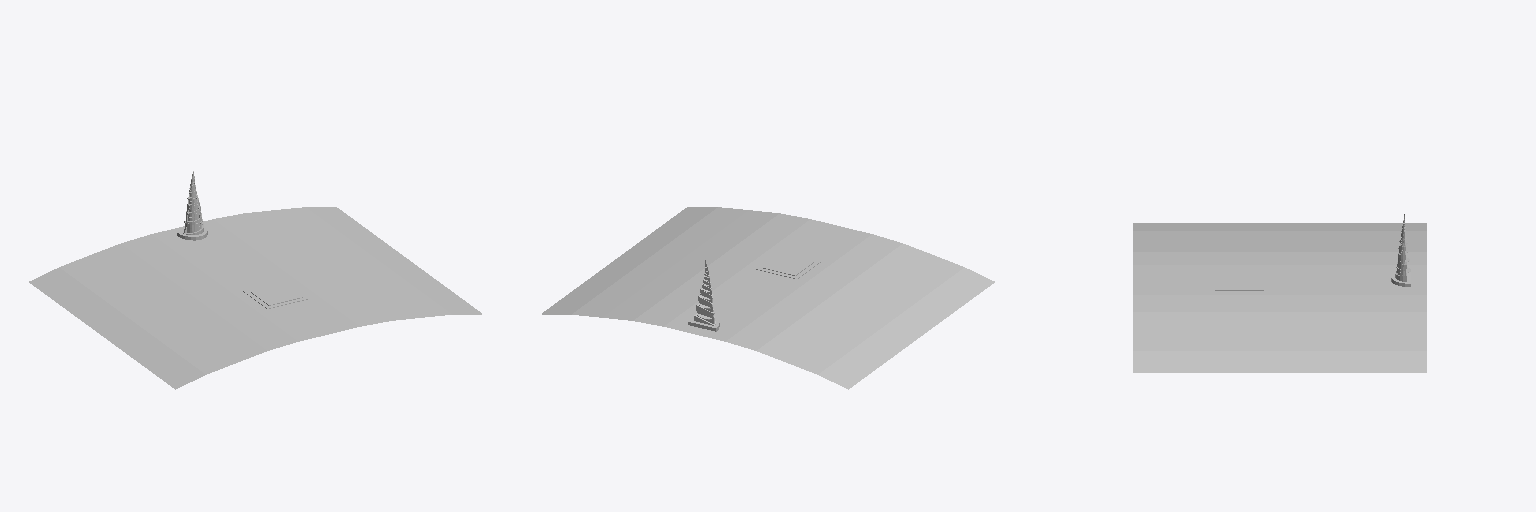
Rendered from Moon Scape Chess Board.obj.
3 views of the same model, side by side, from view 1: azimuth 30°, elevation 25°; view 2: azimuth 150°, elevation 25°; view 3: azimuth 270°, elevation 25° (orthographic).
Parts seen in each view (by area): view 1: pPlane1, pCube1, pCube29; view 2: pPlane1, pCube1, pCube29; view 3: pPlane1, pCube1, pCube29.
Part boxes in pixels (bbox=[...]): pPlane1: bbox=[29, 207, 481, 389]; pCube1: bbox=[243, 281, 308, 308]; pCube29: bbox=[177, 171, 207, 240]; pPlane1: bbox=[542, 207, 994, 389]; pCube1: bbox=[756, 251, 820, 278]; pCube29: bbox=[688, 260, 719, 331]; pPlane1: bbox=[1133, 223, 1426, 372]; pCube1: bbox=[1215, 270, 1263, 290]; pCube29: bbox=[1391, 214, 1410, 286].
Size of the model in its own units: 174 by 45.6 by 144.